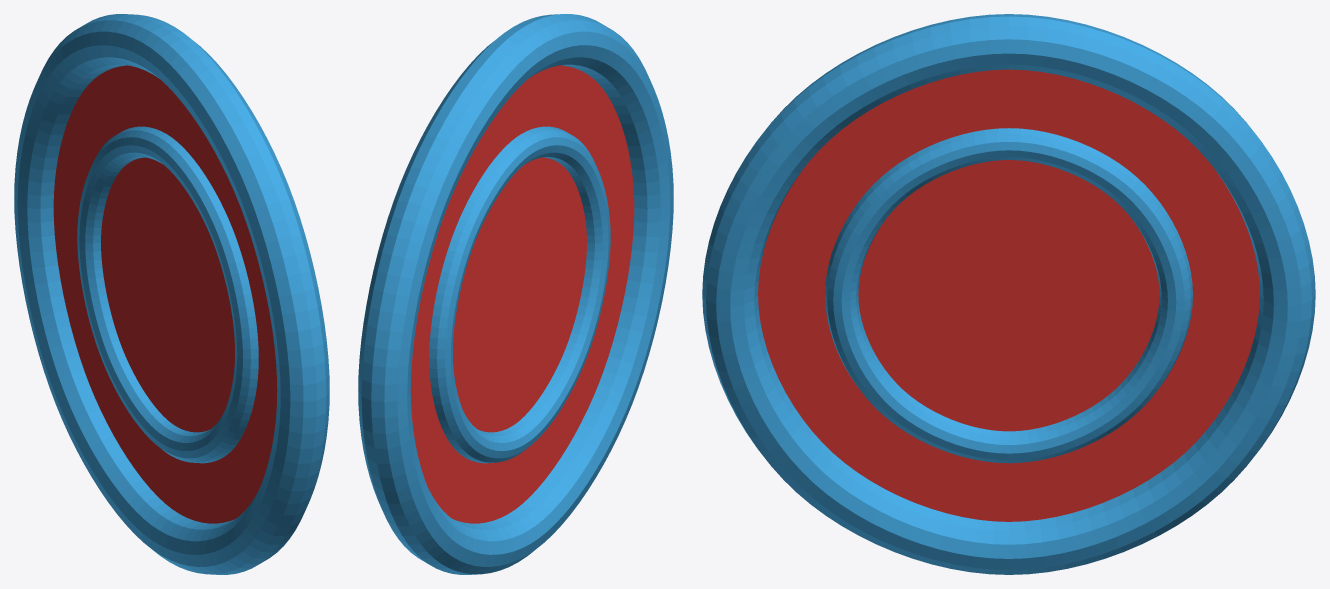
File: Bumper.fbx
3 renders of one model, left to right at view 1: azimuth 30°, elevation 25°; view 2: azimuth 150°, elevation 25°; view 3: azimuth 270°, elevation 25°, orthographic. The views are drawn at different scales.
Visible parts, largest first — view 1: ベジエカーブ, 円, ベジエカーブ.001; view 2: ベジエカーブ, 円, ベジエカーブ.001; view 3: 円, ベジエカーブ, ベジエカーブ.001.
Part boxes in pixels (<box>): ベジエカーブ: <box>14,14,329,574</box>; 円: <box>53,65,277,523</box>; ベジエカーブ.001: <box>77,126,258,463</box>; ベジエカーブ: <box>358,14,673,574</box>; 円: <box>410,65,634,523</box>; ベジエカーブ.001: <box>429,126,610,463</box>; 円: <box>758,69,1259,521</box>; ベジエカーブ: <box>702,14,1315,574</box>; ベジエカーブ.001: <box>825,128,1192,463</box>.
Bounding box in the file's own units: 40 × 440 × 440.
